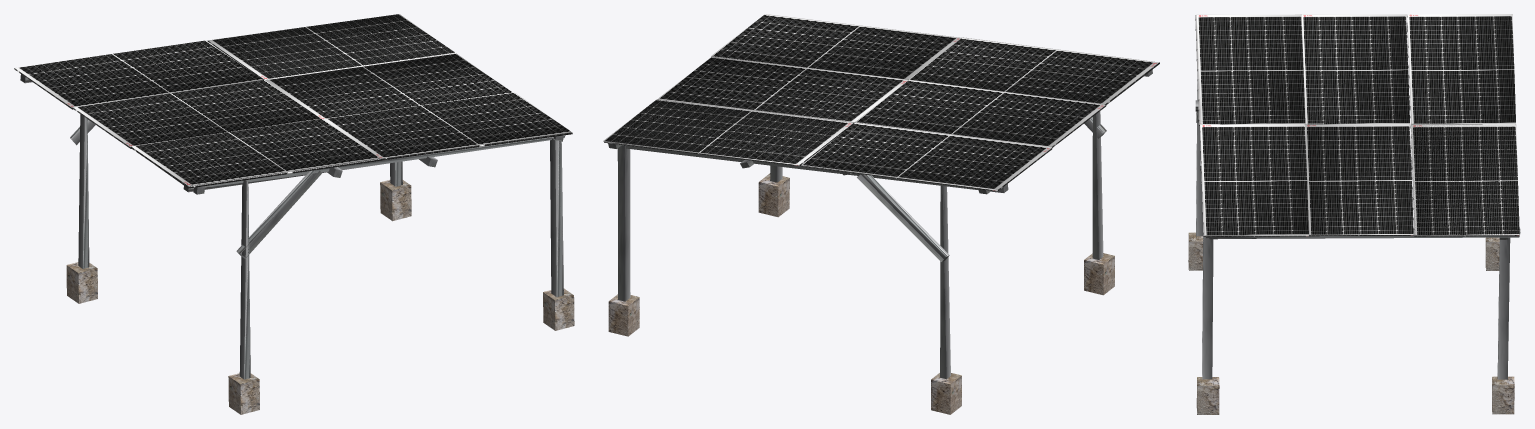
Rendered from six panel  with 4 legs dcr.fbx.
The picture shows the model from 3 angles, left to right: view 1: azimuth 30°, elevation 25°; view 2: azimuth 150°, elevation 25°; view 3: azimuth 270°, elevation 25°; orthographic projection. The views are drawn at different scales.
Parts seen in each view (by area): view 1: panel.001, panel3.001, panel4.001, panel6, panel2.001, panel5, panel6.001, Cube.018, Cube.005, Cube.015, Cube.002, Cube.007 (+5 smaller); view 2: panel6, panel3.001, panel.001, panel2.001, panel4.001, panel5, panel6.001, Cube.027, Cube.015, Cube.005, Cube.008, Cube (+4 smaller); view 3: panel6, panel5, panel4.001, panel.001, panel3.001, panel2.001, panel6.001, Cube.018, Cube.027, Cube, Cube.010, Cube.001 (+3 smaller).
Boxes of the visible parts, <box> form: panel.001: <box>131,119,379,186</box>; panel3.001: <box>14,40,262,108</box>; panel4.001: <box>323,92,571,159</box>; panel6: <box>207,14,456,79</box>; panel2.001: <box>73,80,320,148</box>; panel5: <box>265,53,512,118</box>; panel6.001: <box>218,14,454,79</box>; Cube.018: <box>550,138,563,296</box>; Cube.005: <box>239,180,250,379</box>; Cube.015: <box>78,114,89,268</box>; Cube.002: <box>183,135,565,192</box>; Cube.007: <box>236,170,321,258</box>; panel6: <box>603,99,853,166</box>; panel3.001: <box>802,122,1052,190</box>; panel.001: <box>908,37,1159,104</box>; panel2.001: <box>856,80,1106,147</box>; panel4.001: <box>711,14,961,80</box>; panel5: <box>658,56,908,122</box>; panel6.001: <box>605,99,853,157</box>; Cube.027: <box>617,145,630,301</box>; Cube.015: <box>940,185,950,379</box>; Cube.005: <box>1092,111,1103,259</box>; Cube.008: <box>857,174,949,262</box>; Cube: <box>758,173,789,217</box>; panel6: <box>1410,124,1519,236</box>; panel5: <box>1305,124,1413,236</box>; panel4.001: <box>1200,124,1308,235</box>; panel.001: <box>1196,14,1305,124</box>; panel3.001: <box>1407,14,1515,123</box>; panel2.001: <box>1301,14,1409,123</box>; panel6.001: <box>1411,124,1519,234</box>; Cube.018: <box>1202,231,1213,379</box>; Cube.027: <box>1497,237,1510,379</box>; Cube: <box>1196,377,1219,414</box>; Cube.010: <box>1492,376,1514,414</box>; Cube.001: <box>1206,229,1520,238</box>.
Bounding box in the file's own units: 467 × 271 × 359.
